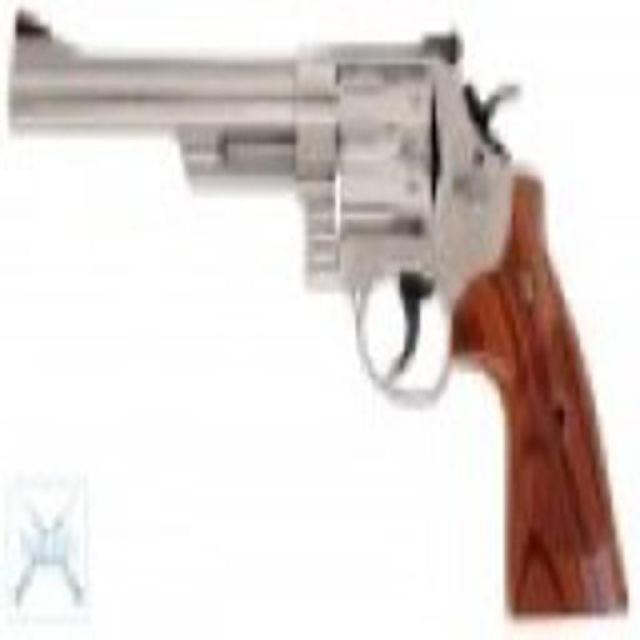pistol: (7, 10, 620, 612)
